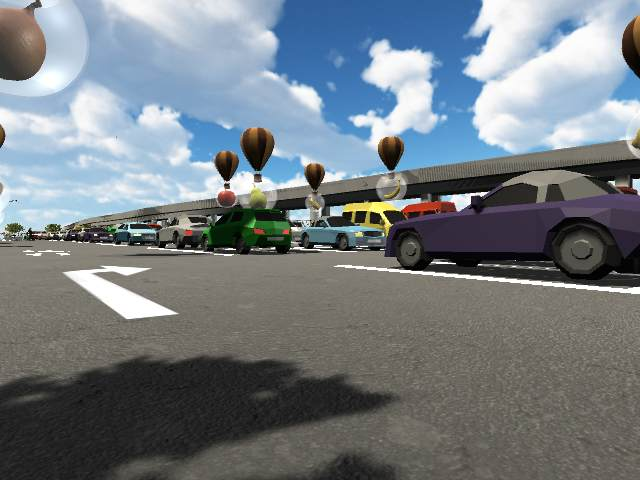ground_right: (58, 264, 157, 277)
